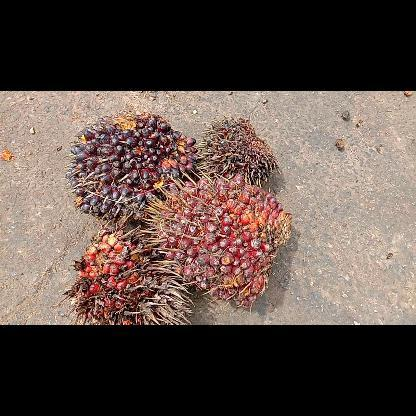Kurang masak: (66, 110, 198, 224)
TBS abnormal: (198, 112, 280, 186)
TBS masak: (148, 173, 294, 307)
Terlalu masak: (68, 226, 196, 324)
